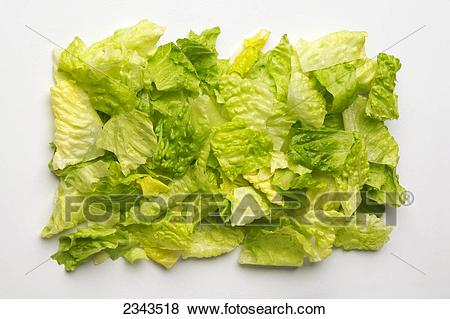chopped lettuce: (56, 36, 391, 262)
